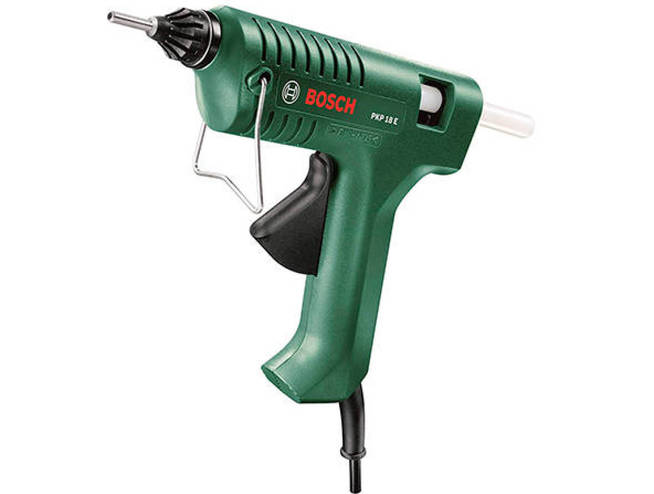Arma Falsa: (99, 4, 547, 414)
